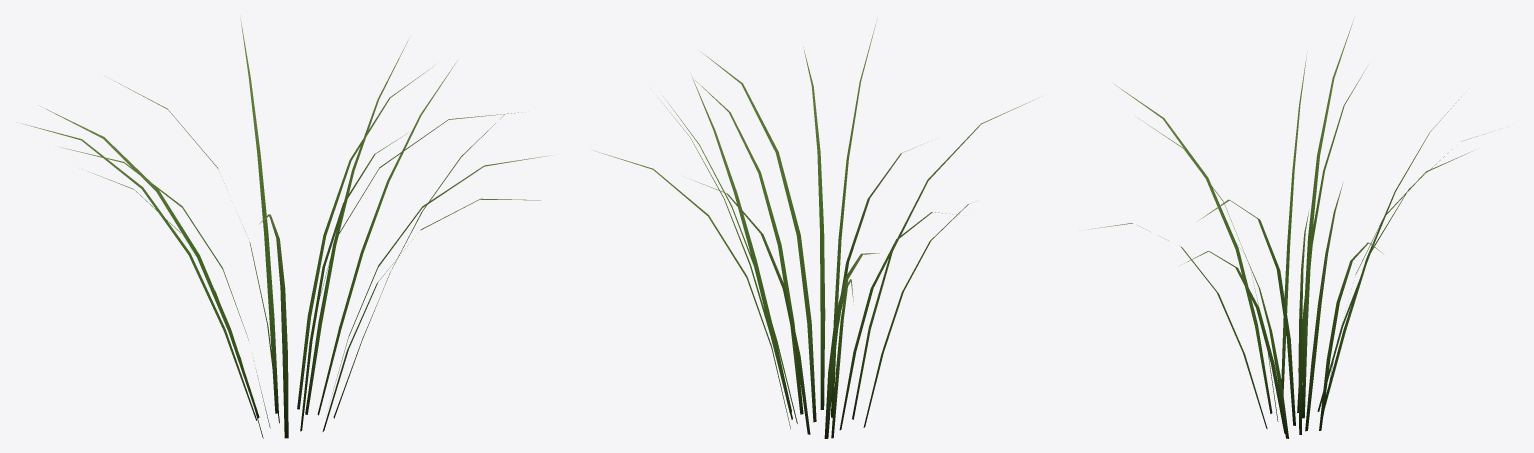
Rendered from b612_veg_VL_Grass_Tall_A_0.glb.
3 views of the same model, side by side, from view 1: azimuth 30°, elevation 25°; view 2: azimuth 150°, elevation 25°; view 3: azimuth 270°, elevation 25° (orthographic). The views are drawn at different scales.
Parts seen in each view (by area): view 1: Grass_Tall_A_LOD0; view 2: Grass_Tall_A_LOD0; view 3: Grass_Tall_A_LOD0.
Part boxes in pixels (x1,y1,x2,y2): Grass_Tall_A_LOD0: (21, 17, 548, 438); Grass_Tall_A_LOD0: (594, 19, 1035, 438); Grass_Tall_A_LOD0: (1086, 20, 1490, 438).
Size of the model in its own units: 0.8089 by 0.6886 by 0.8213.
